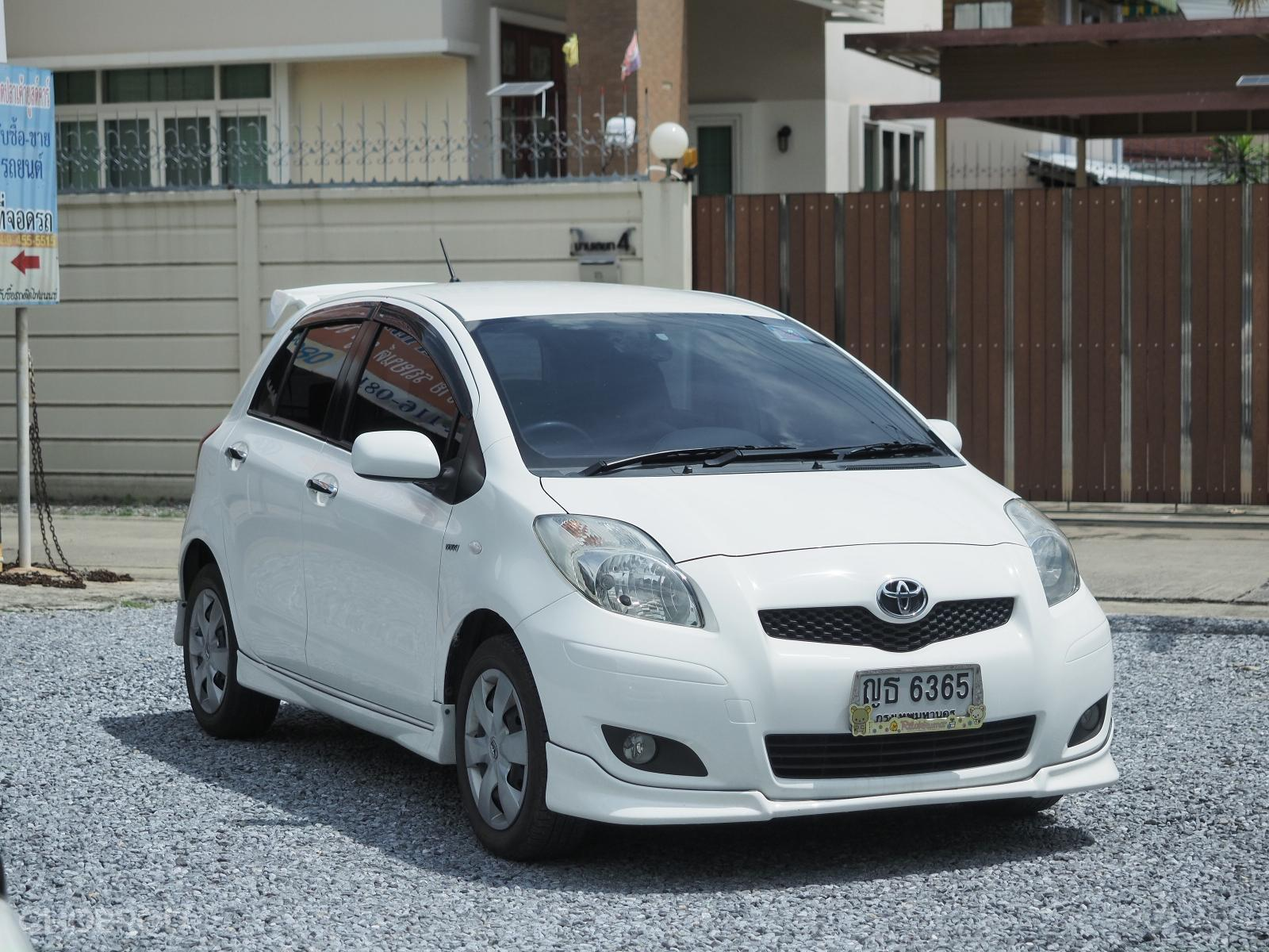license-plate: (845, 658, 993, 743)
